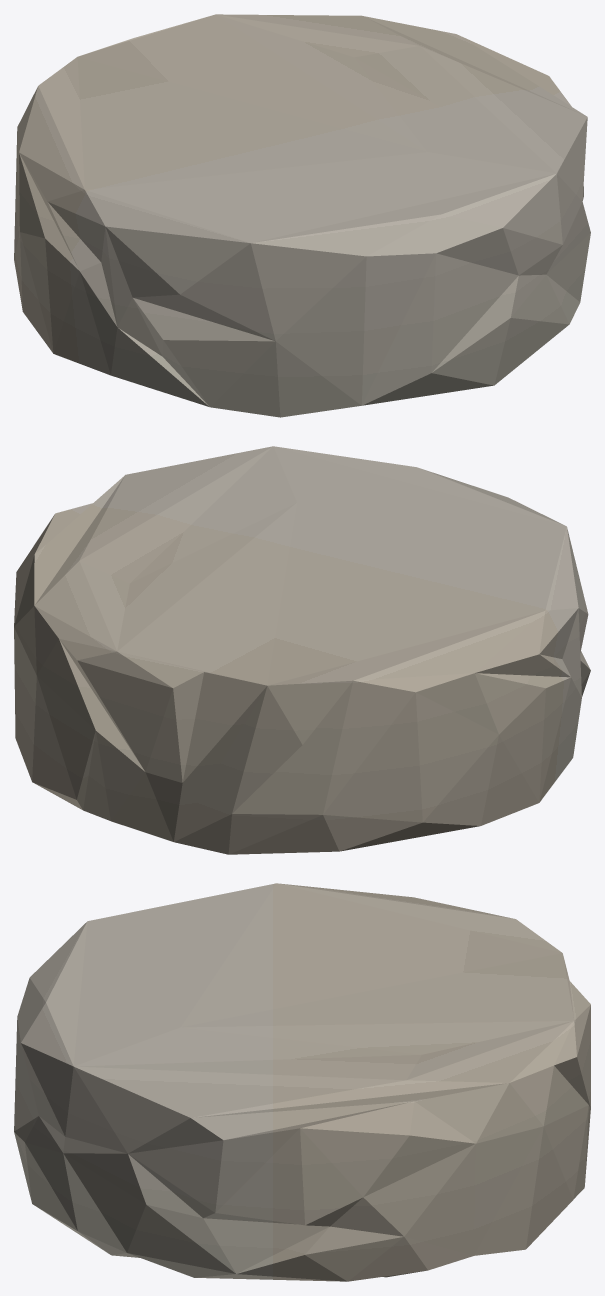
File: YN_CircleStone3.fbx
3 views of the same model, one above another, from view 1: azimuth 30°, elevation 25°; view 2: azimuth 150°, elevation 25°; view 3: azimuth 270°, elevation 25° (orthographic).
Visible parts, largest first — view 1: CircleStone3; view 2: CircleStone3; view 3: CircleStone3.
Boxes of the visible parts, <box> form: CircleStone3: <box>14,14,590,417</box>; CircleStone3: <box>14,446,590,854</box>; CircleStone3: <box>14,883,590,1281</box>.
Size of the model in its own units: 2.29 by 0.7891 by 2.26.
